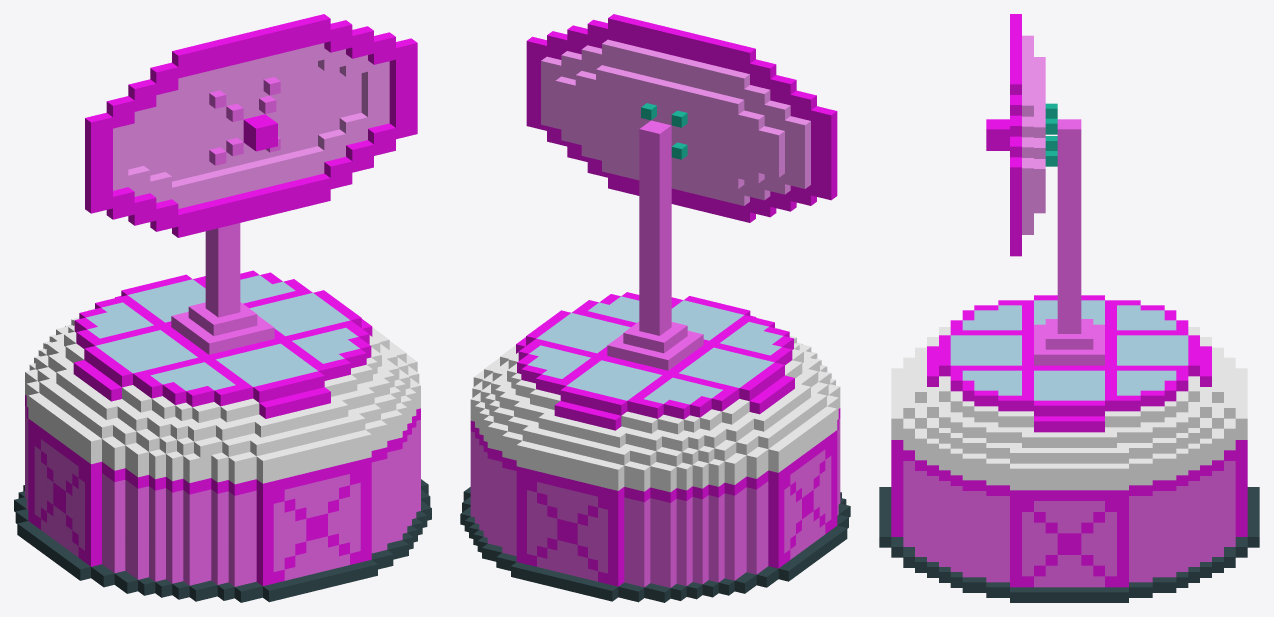
Rendered from tower.obj.
3 renders of one model, left to right at view 1: azimuth 30°, elevation 25°; view 2: azimuth 150°, elevation 25°; view 3: azimuth 270°, elevation 25°, orthographic. The views are drawn at different scales.
Size of the model in its own units: 3.2 by 4.4 by 3.2.
